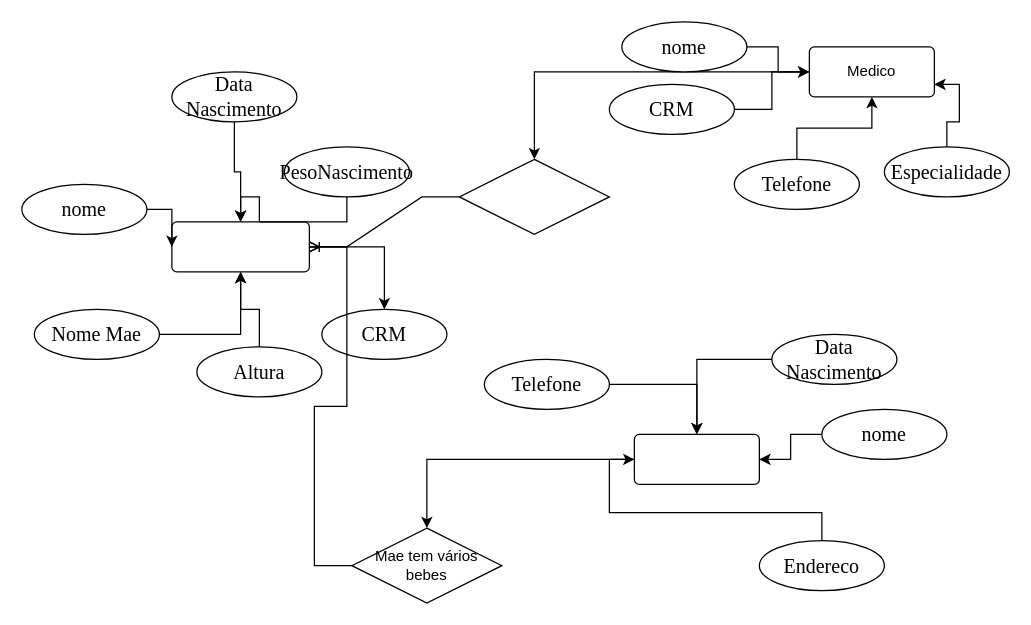
Some shapes in this 1031 by 625 pixel diagram are drawn without their labels. The box of each missing label's shape, as (x1, y1, x2, y2) in pixels:
Bebes: (171, 221, 309, 272)
Maes: (633, 433, 759, 484)
Medico faz partos de bebes: (458, 158, 609, 234)
